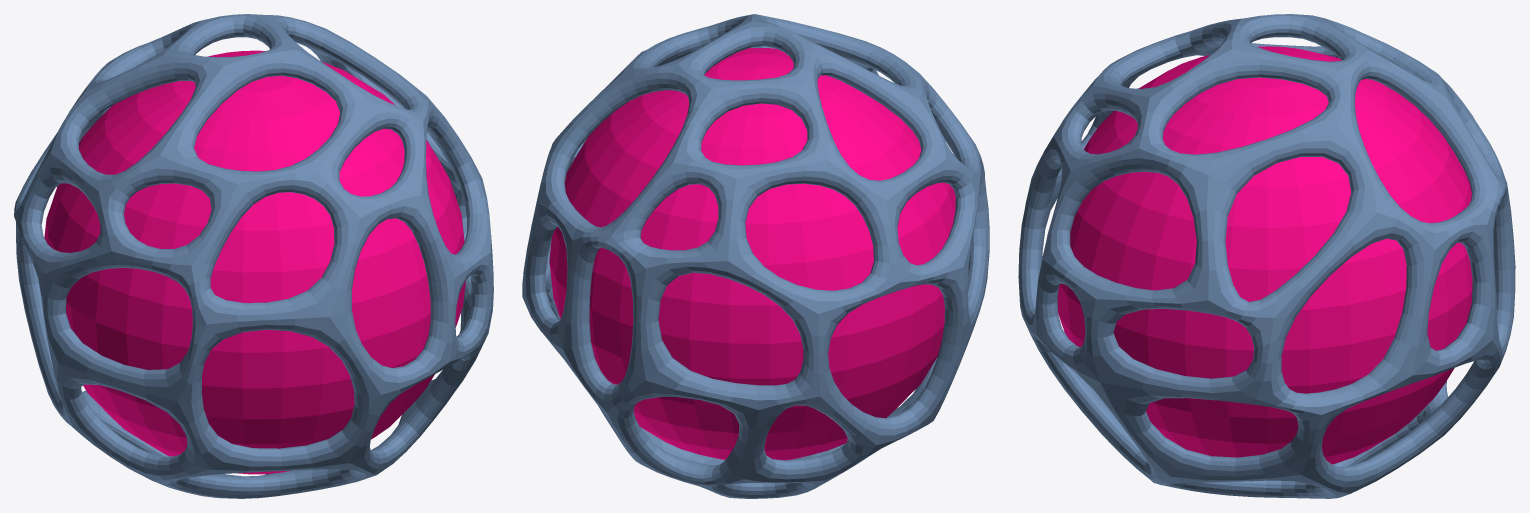
File: Planta alien 2.fbx
The picture shows the model from 3 angles, left to right: view 1: azimuth 30°, elevation 25°; view 2: azimuth 150°, elevation 25°; view 3: azimuth 270°, elevation 25°; orthographic projection. The views are drawn at different scales.
Visible parts, largest first — view 1: Planta alien 2; view 2: Planta alien 2; view 3: Planta alien 2.
Boxes of the visible parts, bbox=[...] form: Planta alien 2: bbox=[14, 14, 493, 498]; Planta alien 2: bbox=[522, 14, 989, 498]; Planta alien 2: bbox=[1018, 14, 1515, 498].
Bounding box in the file's own units: 200 × 200 × 200.
